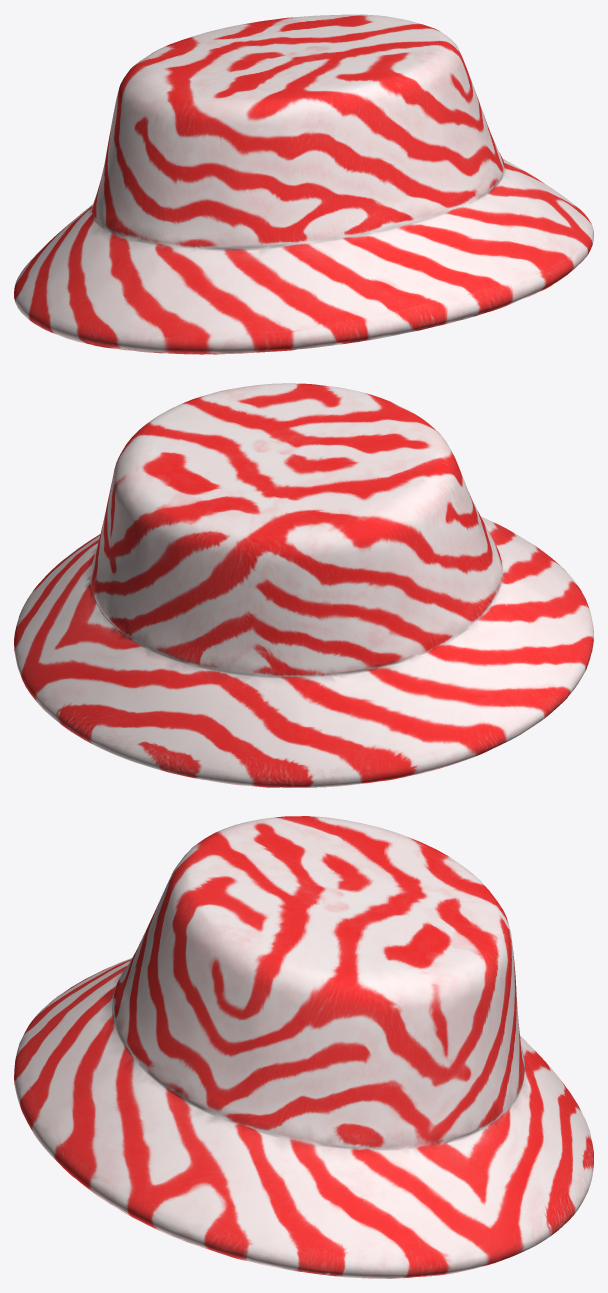
The model's file is Fuzzy-Bucket-Snow-Red.glb.
3 renders of one model, top to bottom at view 1: azimuth 30°, elevation 25°; view 2: azimuth 150°, elevation 25°; view 3: azimuth 270°, elevation 25°, orthographic. The views are drawn at different scales.
Parts seen in each view (by area): view 1: Fuzzy-Bucket-Snow-Red; view 2: Fuzzy-Bucket-Snow-Red; view 3: Fuzzy-Bucket-Snow-Red.
Part boxes in pixels (left/top/right/bottom): Fuzzy-Bucket-Snow-Red: left=14, top=14, right=593, bottom=354; Fuzzy-Bucket-Snow-Red: left=14, top=383, right=593, bottom=787; Fuzzy-Bucket-Snow-Red: left=14, top=816, right=593, bottom=1278.
Bounding box in the file's own units: 0.7047 × 0.336 × 0.5977.
1 material, 1 textured.
